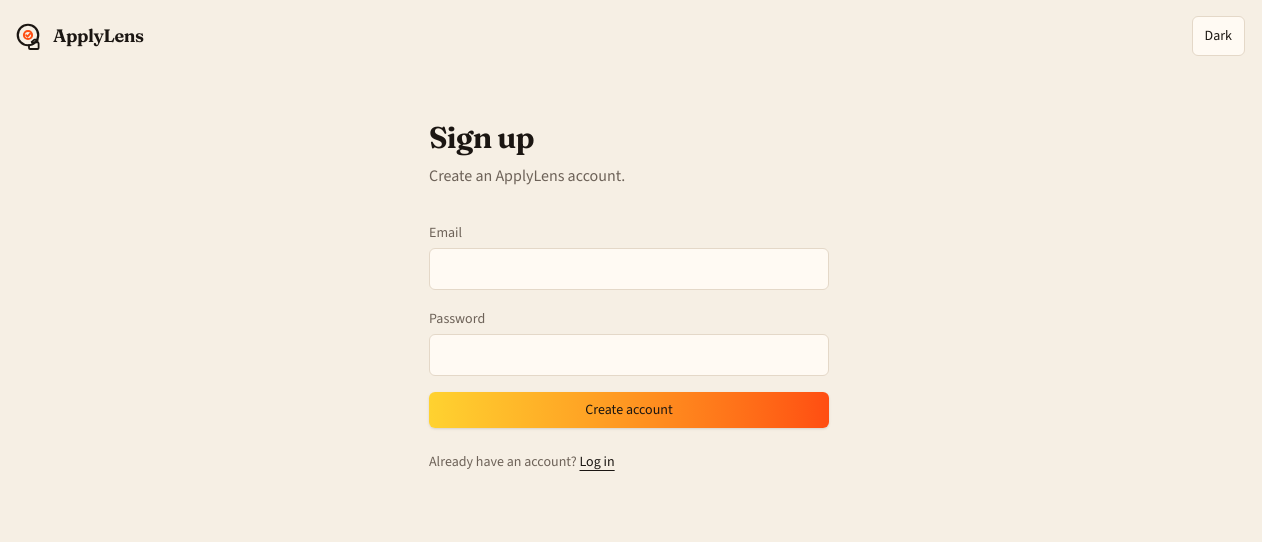
Test: frontend authentication flows › shows a duplicate signup error
The image size is (1262, 542).
Type "user@example.com" into the field labelled "Email".
click(629, 269); type("user@example.com")  # box [429,248,829,290]
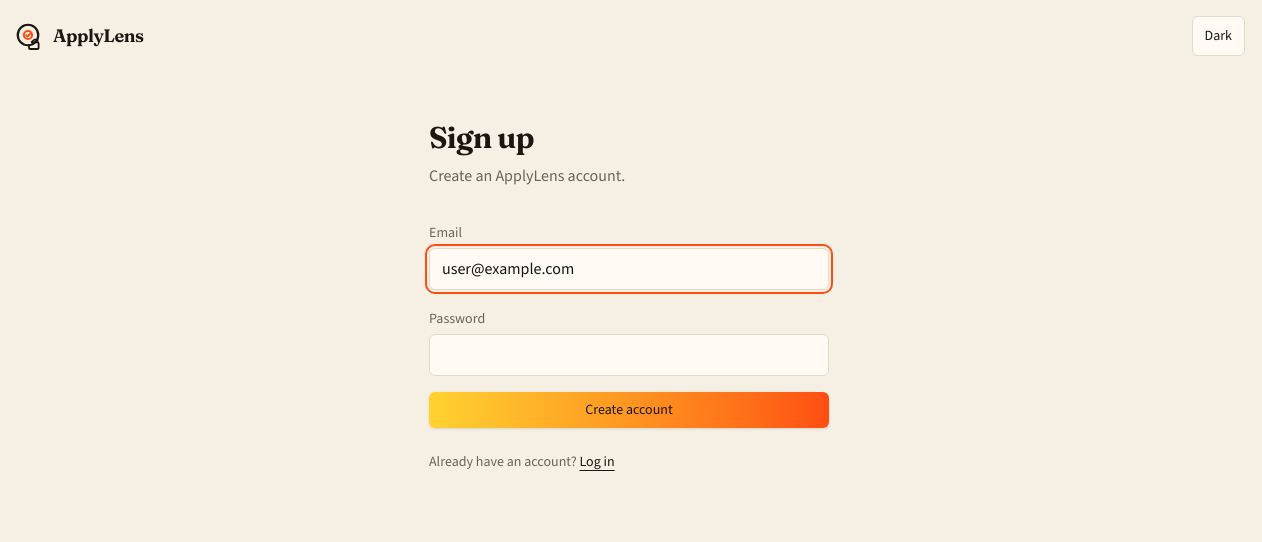
Type "password123" into the password field labelled "Password".
click(629, 355); type("password123")  # box [429,334,829,376]
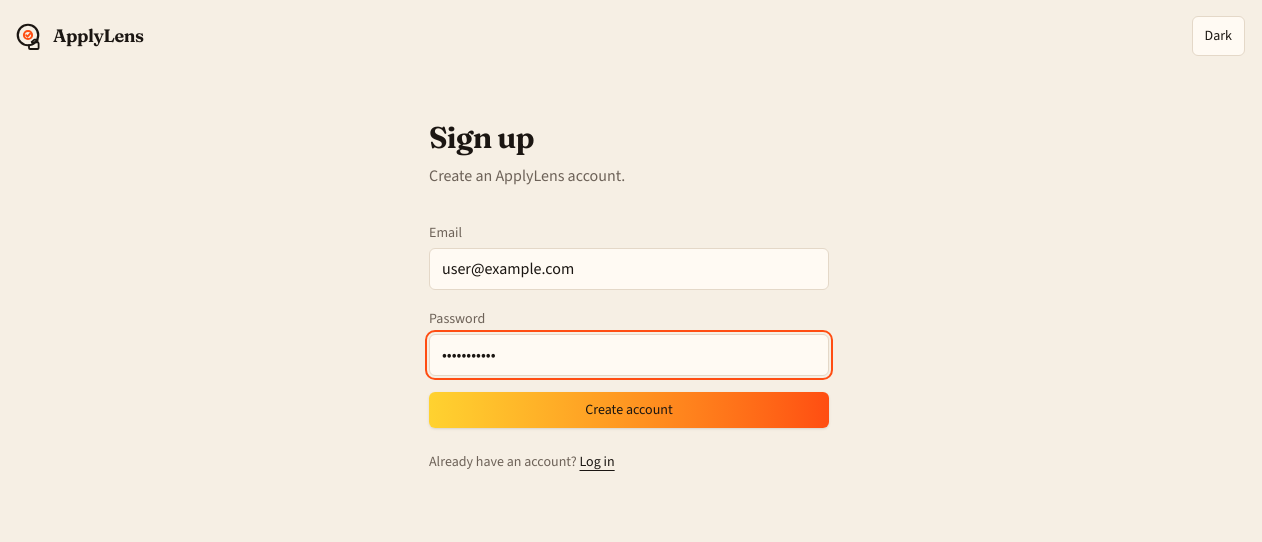
Click the button "Create account".
click(629, 410)  # box [429,392,829,428]
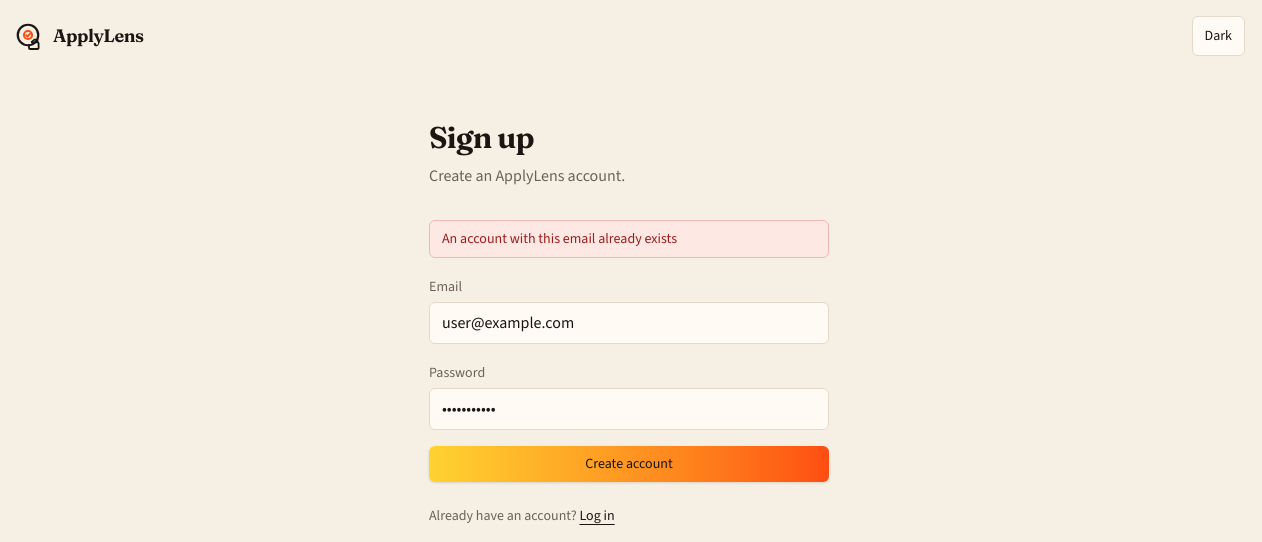
Expected: the heading "Sign up" is shown, [429,119,534,156]
Expected: the message reads "An account with this email already exists", [442,229,677,248]
